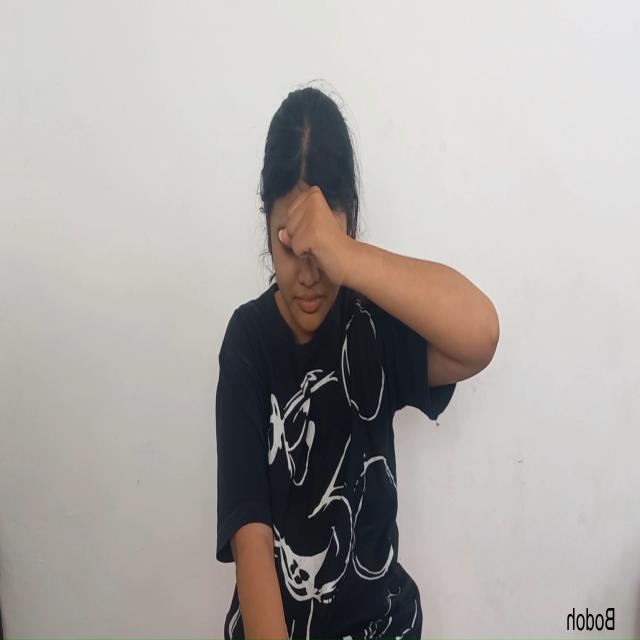Bodoh -BISINDO-: (258, 79, 502, 345)
